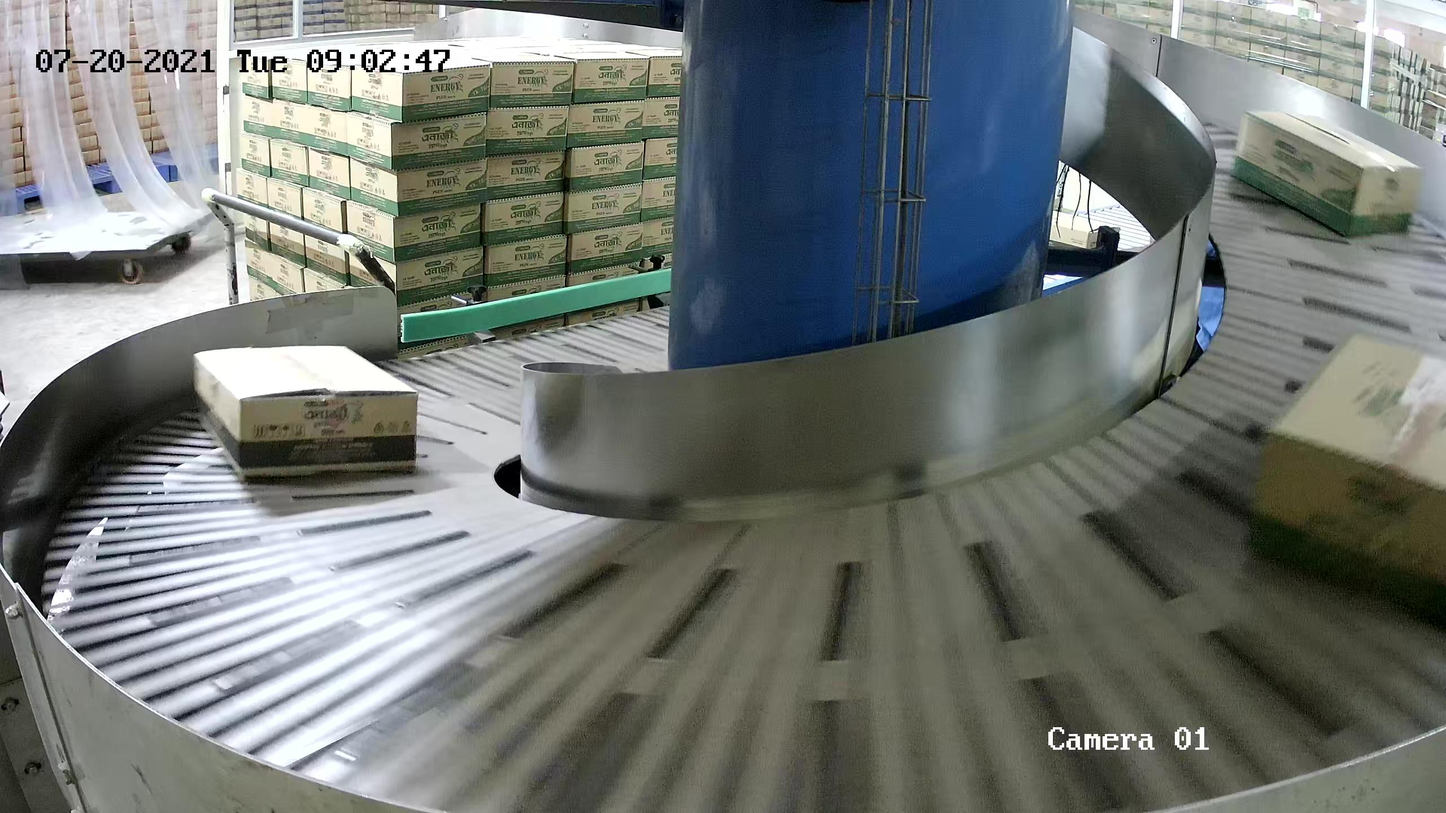Box: (1247, 328, 1445, 618), (190, 342, 423, 482), (1230, 108, 1421, 238)
